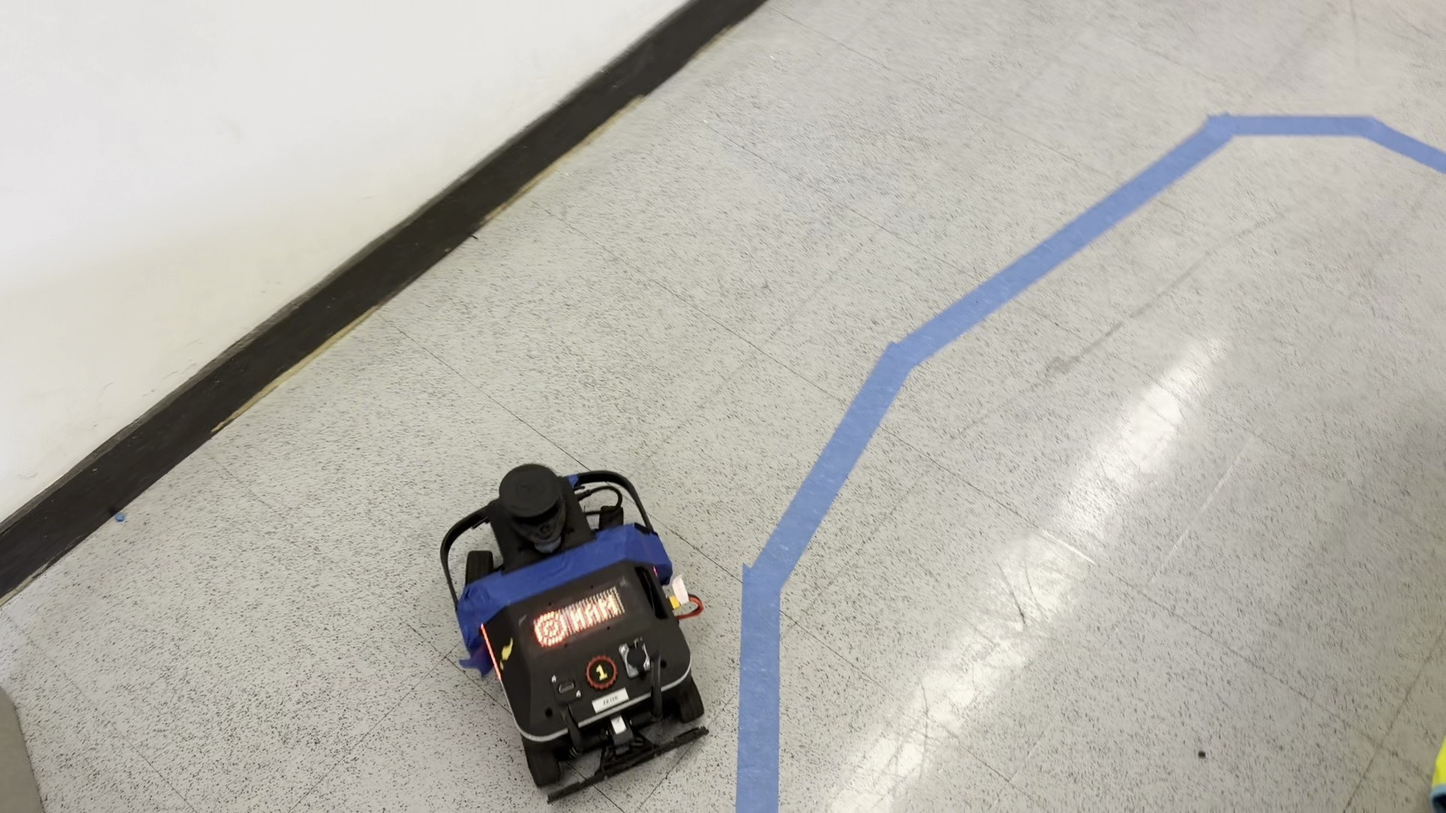racecar: (447, 464, 712, 799)
